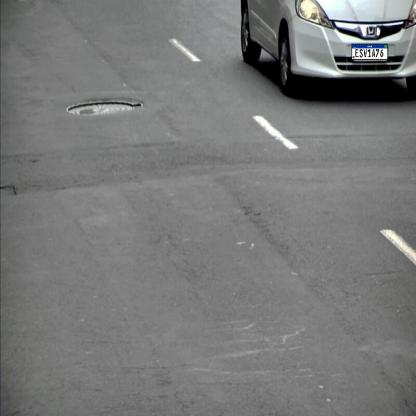PlacaM: (351, 44, 388, 60)
